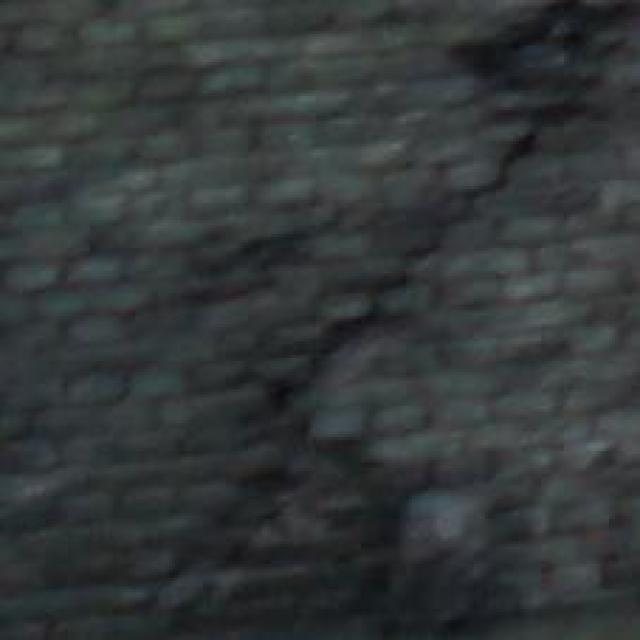Crack: (154, 61, 625, 560)
